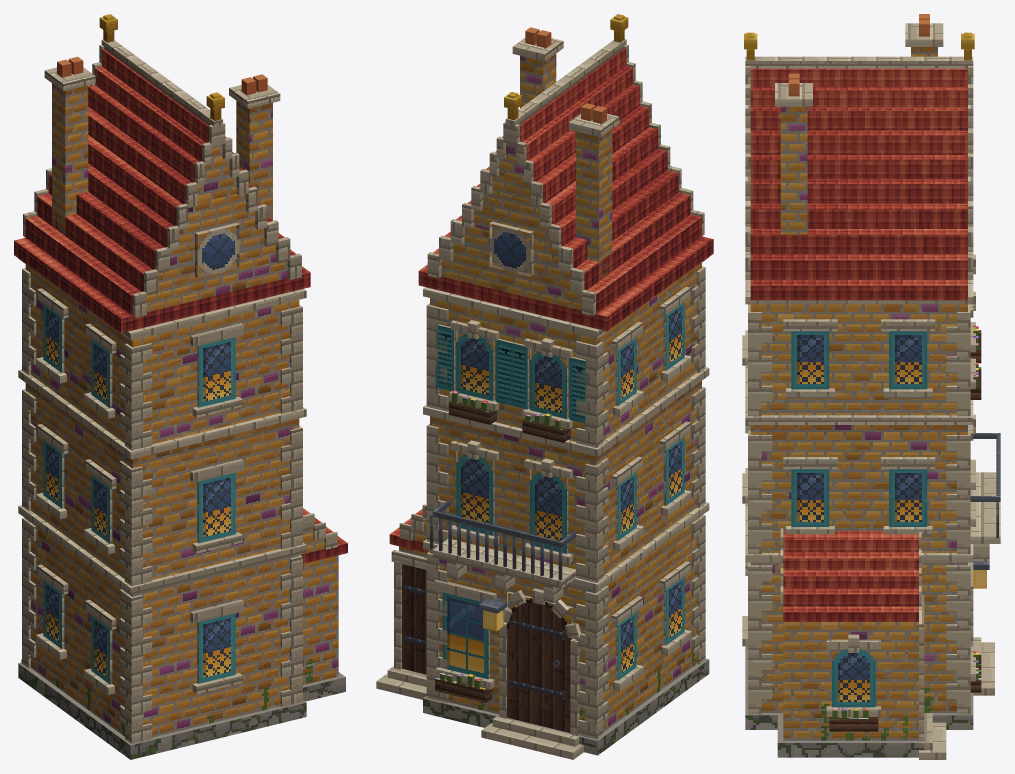
The model's file is brick_honey_townhouse.glb.
The picture shows the model from 3 angles, left to right: view 1: azimuth 30°, elevation 25°; view 2: azimuth 150°, elevation 25°; view 3: azimuth 270°, elevation 25°; orthographic projection. The views are drawn at different scales.
Visible parts, largest first — view 1: roof, storey_1_walls, storey_2_walls, storey_3_walls, plinth, chimney_1_stack, extension_walls, band_1, band_2, chimney_2_stack, back_window_2, back_window_1 (+17 smaller); view 2: roof, storey_2_walls, storey_1_walls, storey_3_walls, front_door_panel, chimney_1_stack, plinth, shop_window, balcony, band_2, extension_door_panel, second_window_2 (+33 smaller); view 3: roof, storey_2_walls, storey_3_walls, extension_roof, extension_walls, storey_1_walls, chimney_2_stack, roof_ridge, extension_plinth, band_2, extension_window, east_window_3_1 (+21 smaller).
Boxes of the visible parts, x1,y1,x2,y2 form: roof: (14,49,310,333); storey_1_walls: (26,519,299,737); storey_2_walls: (25,383,299,579); storey_3_walls: (25,264,299,444); plinth: (18,662,306,759); chimney_1_stack: (52,83,88,235); extension_walls: (303,555,338,684); band_1: (18,505,306,595); band_2: (18,369,306,459); chimney_2_stack: (236,101,272,220); back_window_2: (197,472,235,543); back_window_1: (197,613,235,683); roof: (418,49,713,331); storey_2_walls: (430,381,701,575); storey_1_walls: (430,516,701,732); storey_3_walls: (430,263,701,441); front_door_panel: (507,591,572,732); chimney_1_stack: (576,129,612,280); plinth: (423,658,709,755); shop_window: (442,592,489,679); balcony: (430,514,563,602); band_2: (423,367,709,456); extension_door_panel: (402,564,426,674); second_window_2: (456,451,494,535); roof: (750,68,967,300); storey_2_walls: (750,425,967,552); storey_3_walls: (750,304,967,415); extension_roof: (783,531,918,621); extension_walls: (783,622,918,740); storey_1_walls: (750,562,967,712); chimney_2_stack: (780,106,807,250); roof_ridge: (745,56,973,68); extension_plinth: (777,713,924,757); band_2: (745,330,973,424); extension_window: (832,649,875,707); east_window_3_1: (889,331,927,389).
Size of the model in its own units: 3.31 by 8.28 by 2.97.
1 material, 1 textured.
